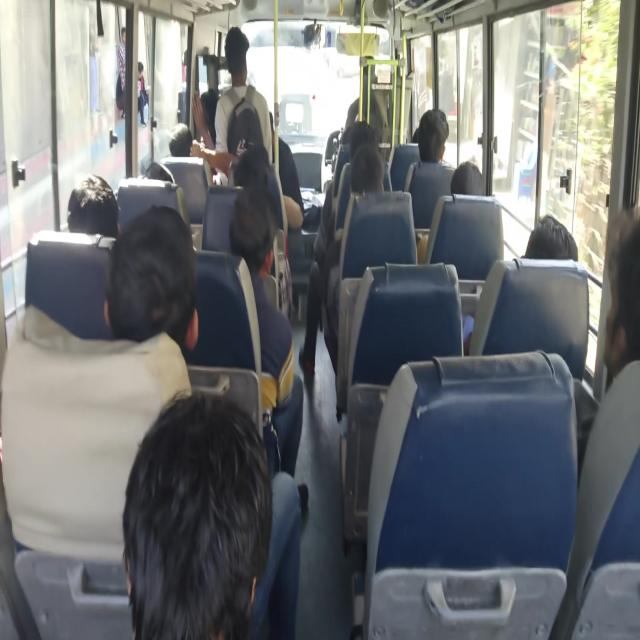person: (135, 467, 291, 640), (591, 206, 640, 444), (111, 211, 198, 334), (228, 156, 300, 237), (518, 190, 568, 286), (401, 102, 463, 179), (241, 197, 296, 274), (356, 144, 402, 222), (82, 167, 125, 248), (115, 150, 175, 208), (456, 147, 499, 218), (190, 91, 238, 150), (220, 36, 258, 99), (173, 121, 208, 188), (341, 124, 383, 172), (242, 131, 271, 186), (406, 104, 431, 150), (260, 110, 286, 141)
